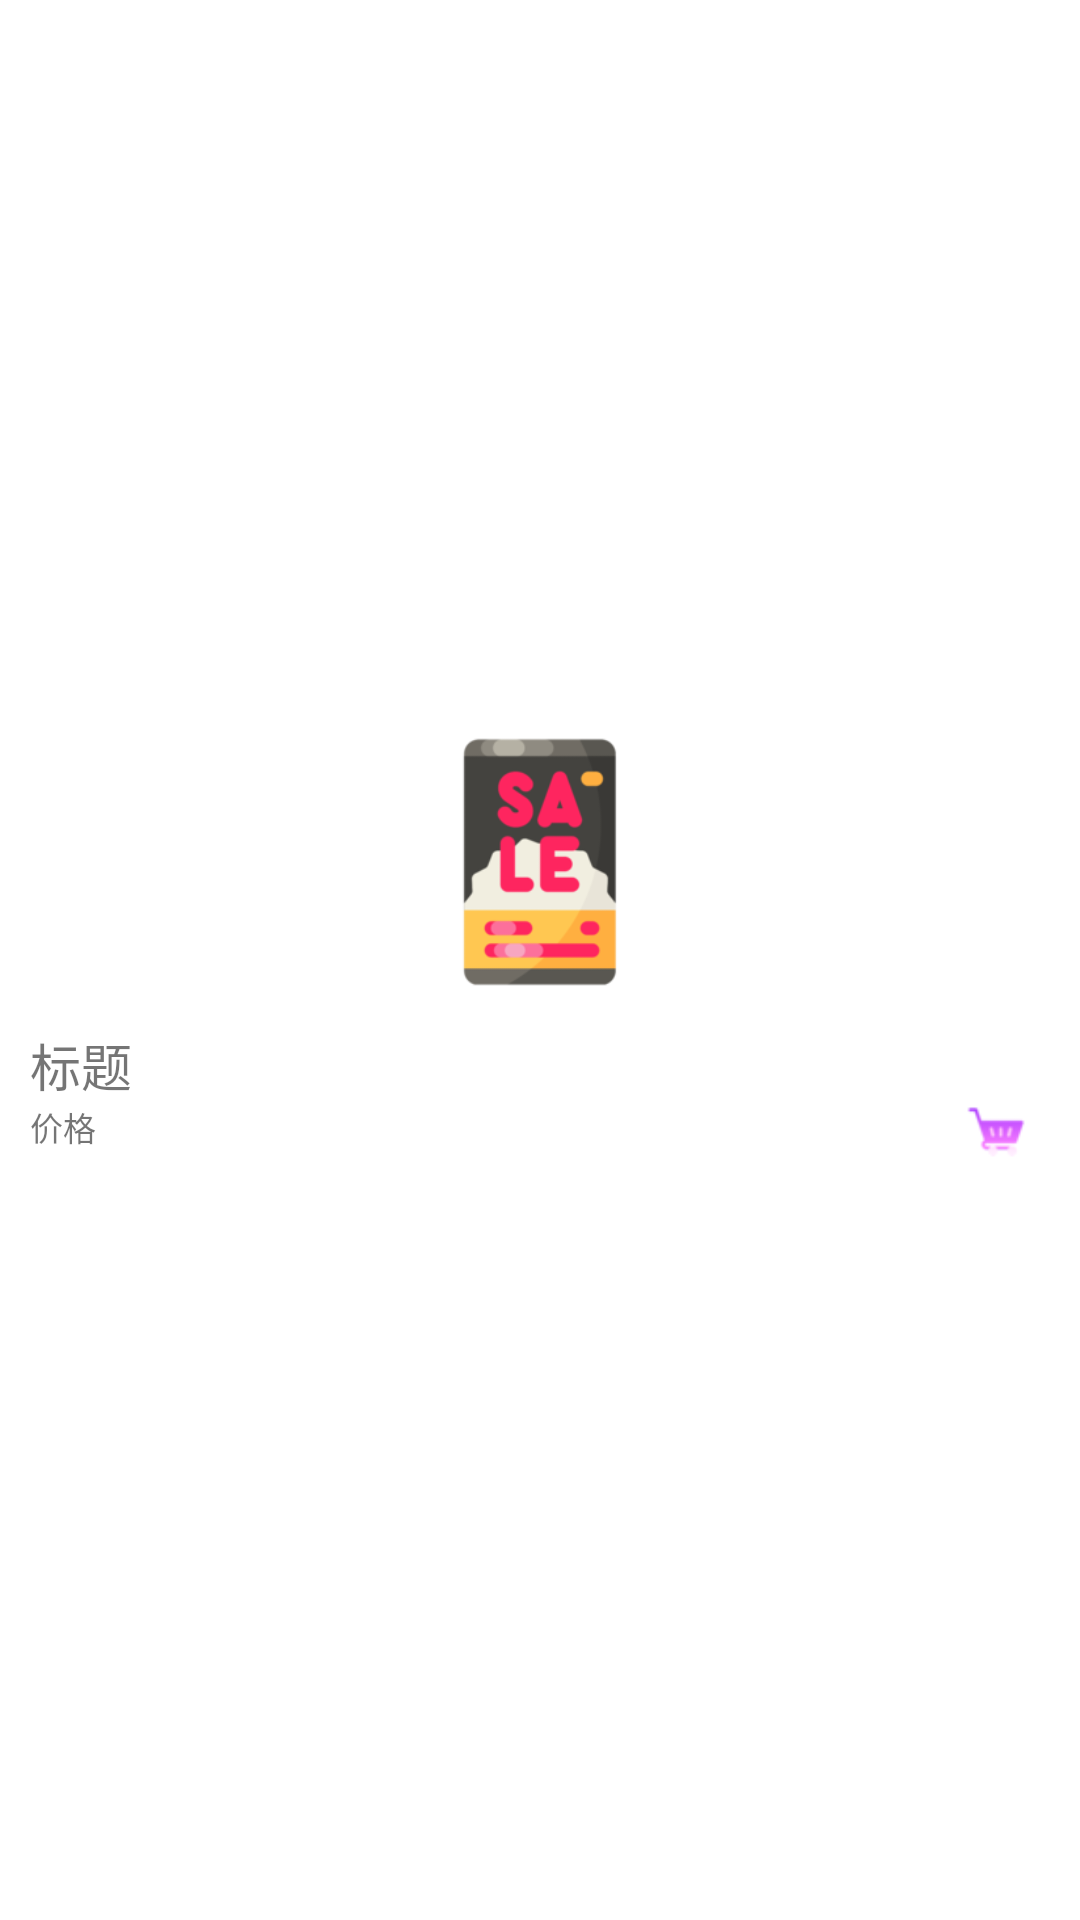

Icons on this 1080w x 1920h Android screen, each with the point to tap as [x,y]:
cart: [996,1129]
